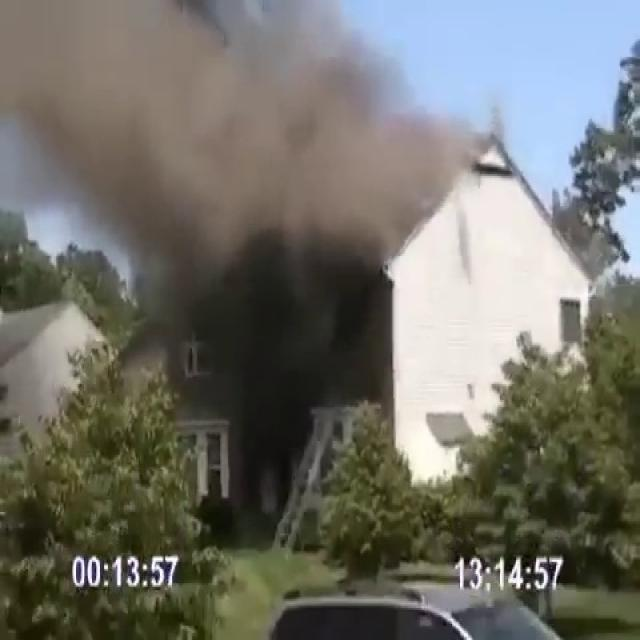Smoke: (0, 0, 443, 478)
